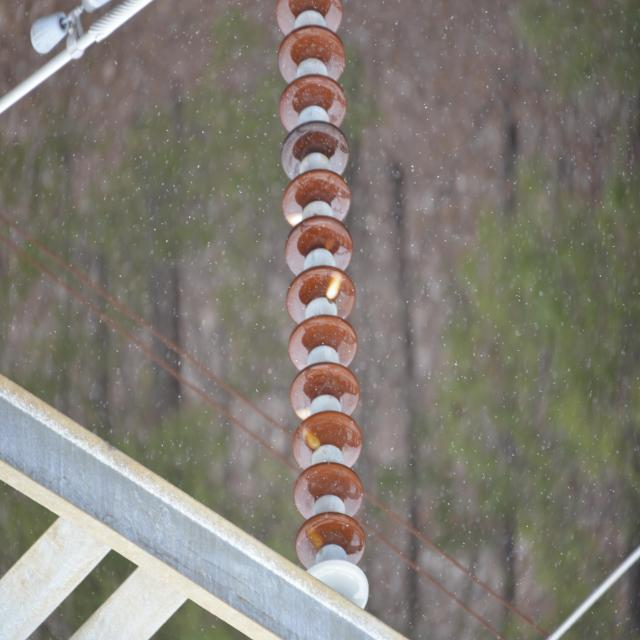insulator: (276, 0, 372, 615)
